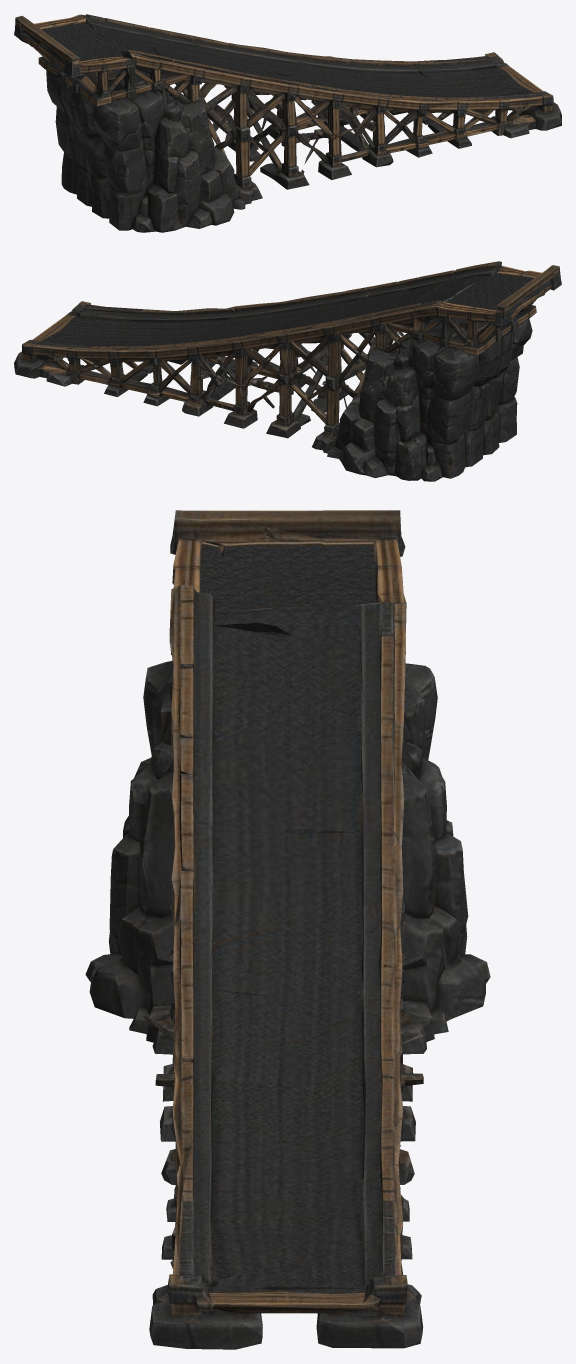
The model's file is stunt-cliff-ramp.glb.
3 renders of one model, top to bottom at view 1: azimuth 30°, elevation 25°; view 2: azimuth 150°, elevation 25°; view 3: azimuth 270°, elevation 25°, orthographic. The views are drawn at different scales.
Bounding box in the file's own units: 1.9 × 0.6688 × 0.6768.
1 material, 1 textured.
